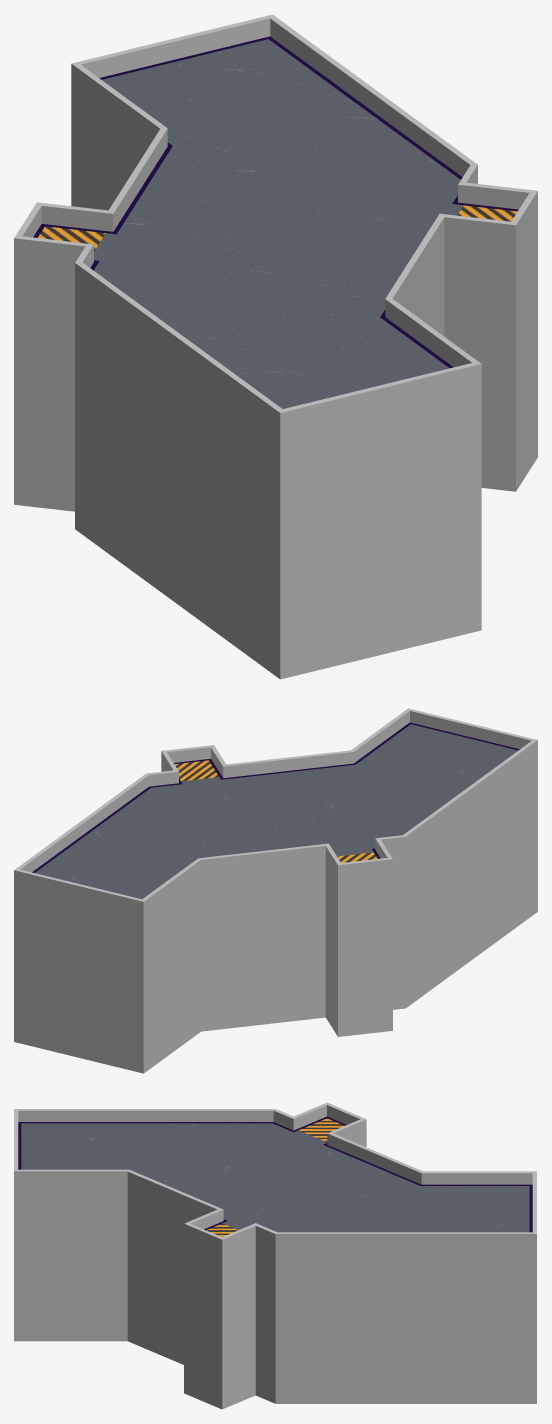
The model's file is Duel_A1_Stage_Puncher.fbx.
3 renders of one model, top to bottom at view 1: azimuth 30°, elevation 25°; view 2: azimuth 150°, elevation 25°; view 3: azimuth 270°, elevation 25°, orthographic. The views are drawn at different scales.
Visible parts, largest first — view 1: Platform_Cube__2_.005, Platform_Cube__2_.004, Platform_Cube__2_.006; view 2: Platform_Cube__2_.005, Platform_Cube__2_.004, Platform_Cube__2_.006; view 3: Platform_Cube__2_.005, Platform_Cube__2_.004, Platform_Cube__2_.006.
Part boxes in pixels (x1,y1,x2,y2): Platform_Cube__2_.005: [14, 39, 537, 679]; Platform_Cube__2_.004: [14, 14, 537, 431]; Platform_Cube__2_.006: [33, 36, 518, 368]; Platform_Cube__2_.005: [14, 724, 537, 1073]; Platform_Cube__2_.004: [14, 708, 537, 913]; Platform_Cube__2_.006: [32, 722, 519, 872]; Platform_Cube__2_.005: [14, 1118, 536, 1409]; Platform_Cube__2_.004: [14, 1102, 536, 1251]; Platform_Cube__2_.006: [18, 1116, 532, 1232].
Bounding box in the file's own units: 3729 × 2150 × 6013.
